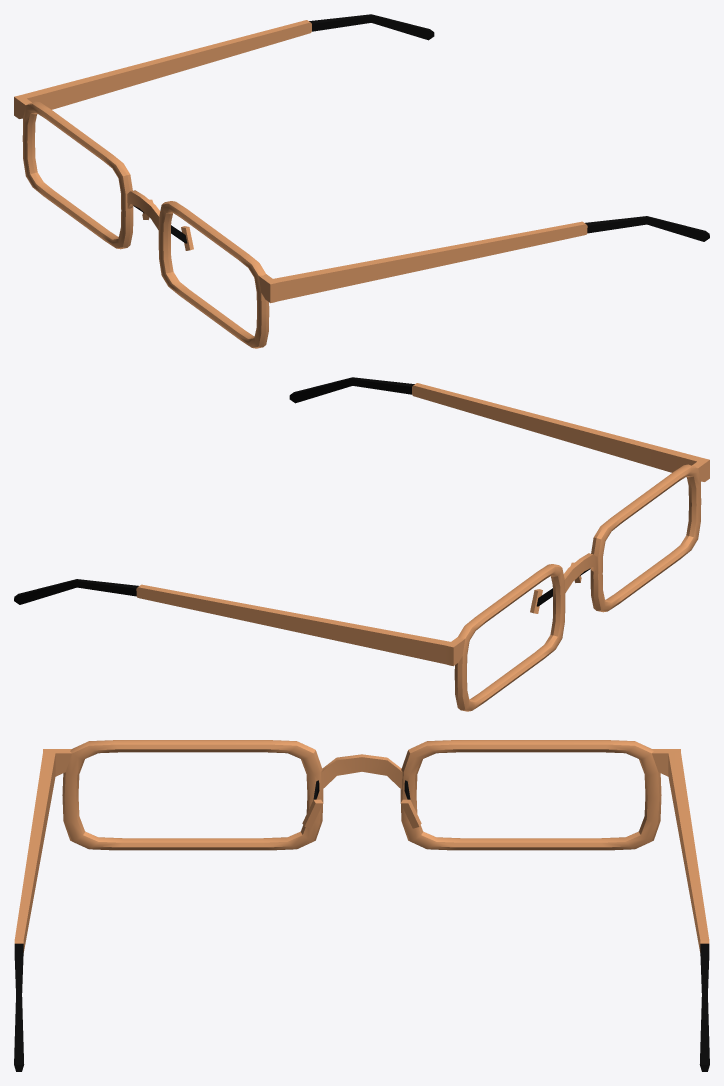
Rendered from glasses.fbx.
3 renders of one model, top to bottom at view 1: azimuth 30°, elevation 25°; view 2: azimuth 150°, elevation 25°; view 3: azimuth 270°, elevation 25°, orthographic. The views are drawn at different scales.
Visible parts, largest first — view 1: Cube; view 2: Cube; view 3: Cube.
Boxes of the visible parts, x1,y1,x2,y2 form: Cube: (14,14,709,348); Cube: (14,377,709,711); Cube: (14,740,709,1071).
Bounding box in the file's own units: 141 × 27.29 × 158.
